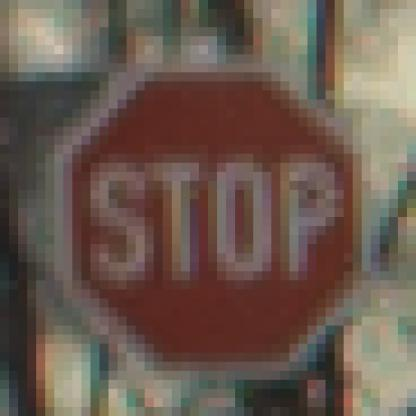stop: (64, 68, 366, 371)
